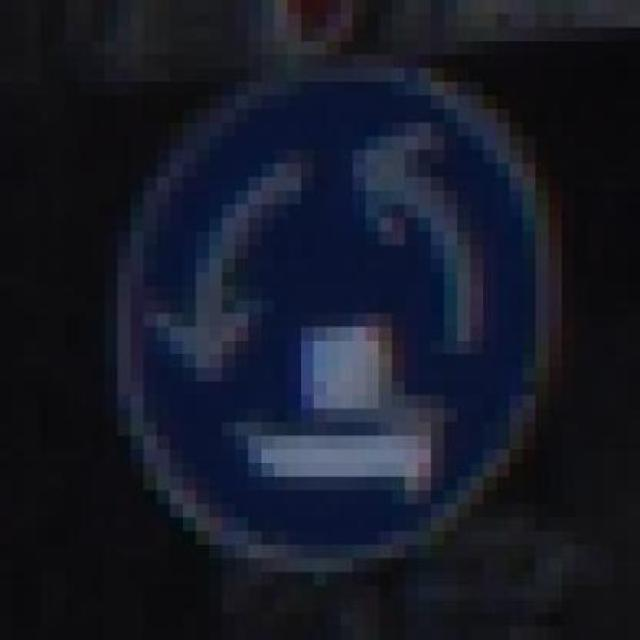Round-About: (105, 27, 588, 571)
